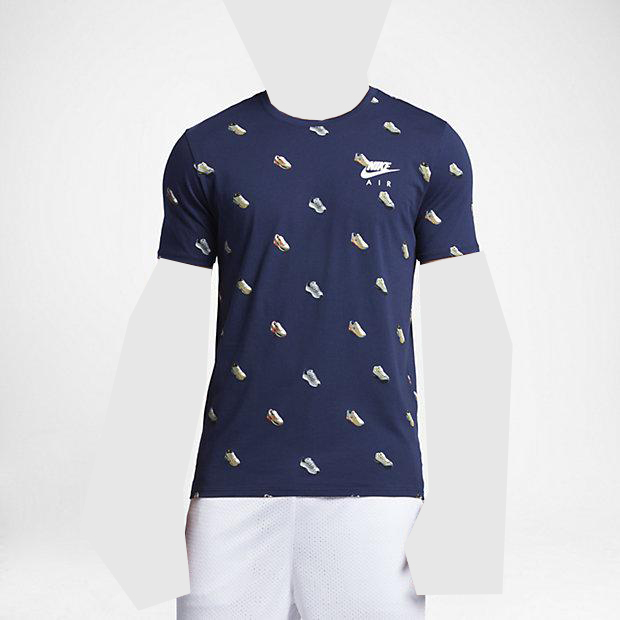teeshirt: (152, 83, 483, 506)
